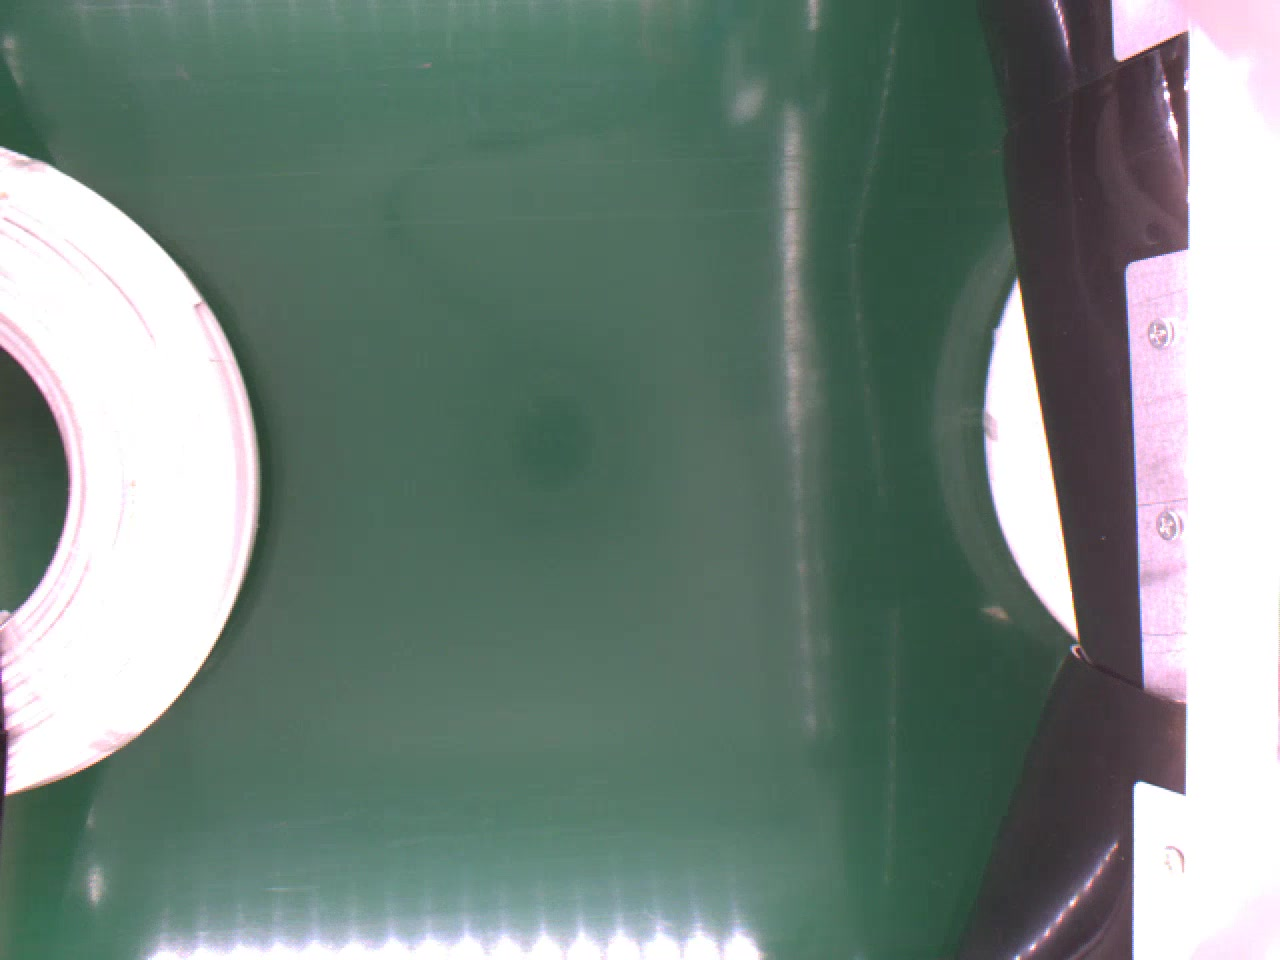white: (1, 142, 265, 798)
